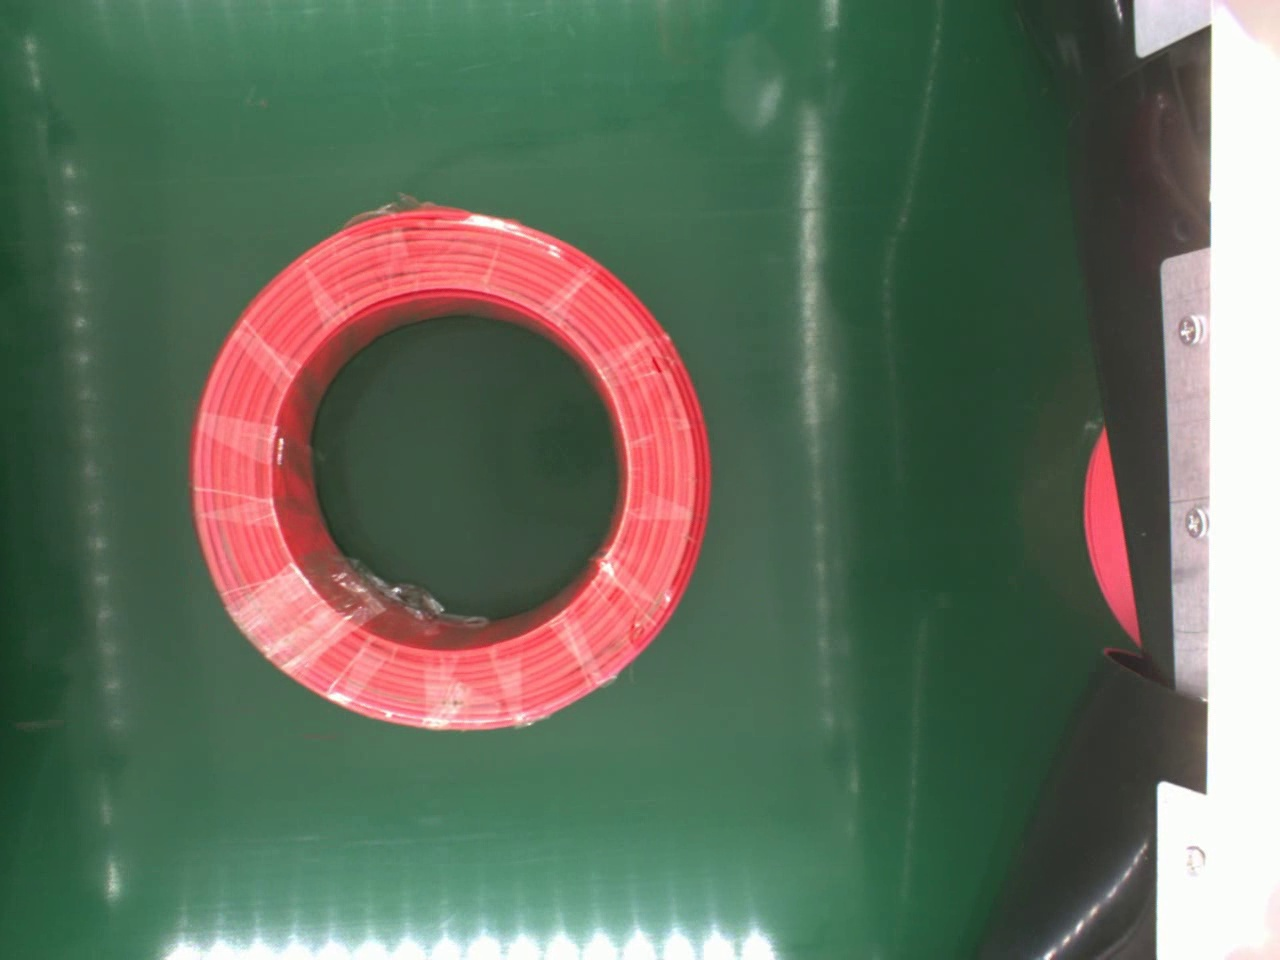red: (186, 202, 715, 737)
